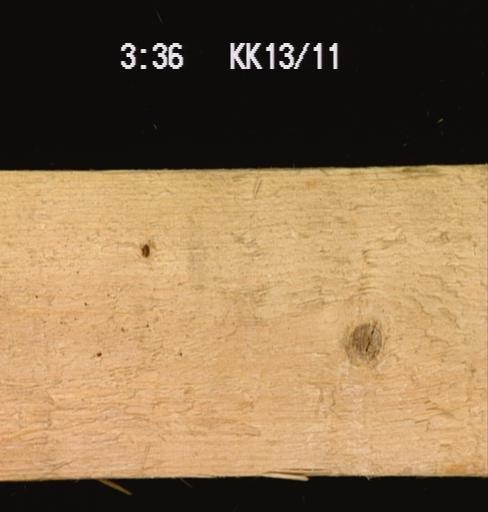small_knot: (137, 242, 149, 259)
sound_knot: (344, 321, 383, 365)
wave: (256, 458, 336, 476)
